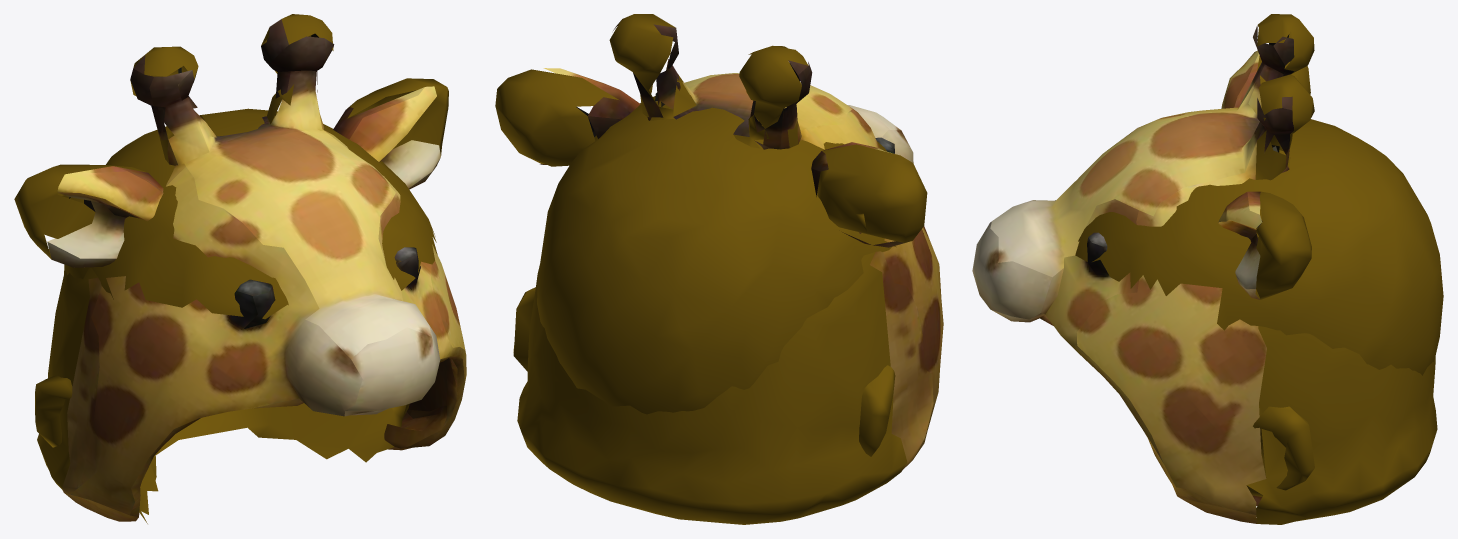
File: giraffe.glb
3 views of the same model, side by side, from view 1: azimuth 30°, elevation 25°; view 2: azimuth 150°, elevation 25°; view 3: azimuth 270°, elevation 25° (orthographic). The views are drawn at different scales.
Parts seen in each view (by area): view 1: geometry_0, HoodAnatomicalLining; view 2: geometry_0, HoodAnatomicalLining; view 3: geometry_0, HoodAnatomicalLining.
Boxes of the visible parts, left/top/right/bottom form: geometry_0: left=14, top=14, right=466, bottom=521; HoodAnatomicalLining: left=35, top=108, right=437, bottom=523; geometry_0: left=495, top=14, right=943, bottom=524; HoodAnatomicalLining: left=513, top=95, right=896, bottom=456; geometry_0: left=972, top=14, right=1437, bottom=524; HoodAnatomicalLining: left=1075, top=119, right=1443, bottom=496.
Size of the model in its own units: 0.5325 by 0.5261 by 0.5385.
Materials: 2 (1 with a texture image).
